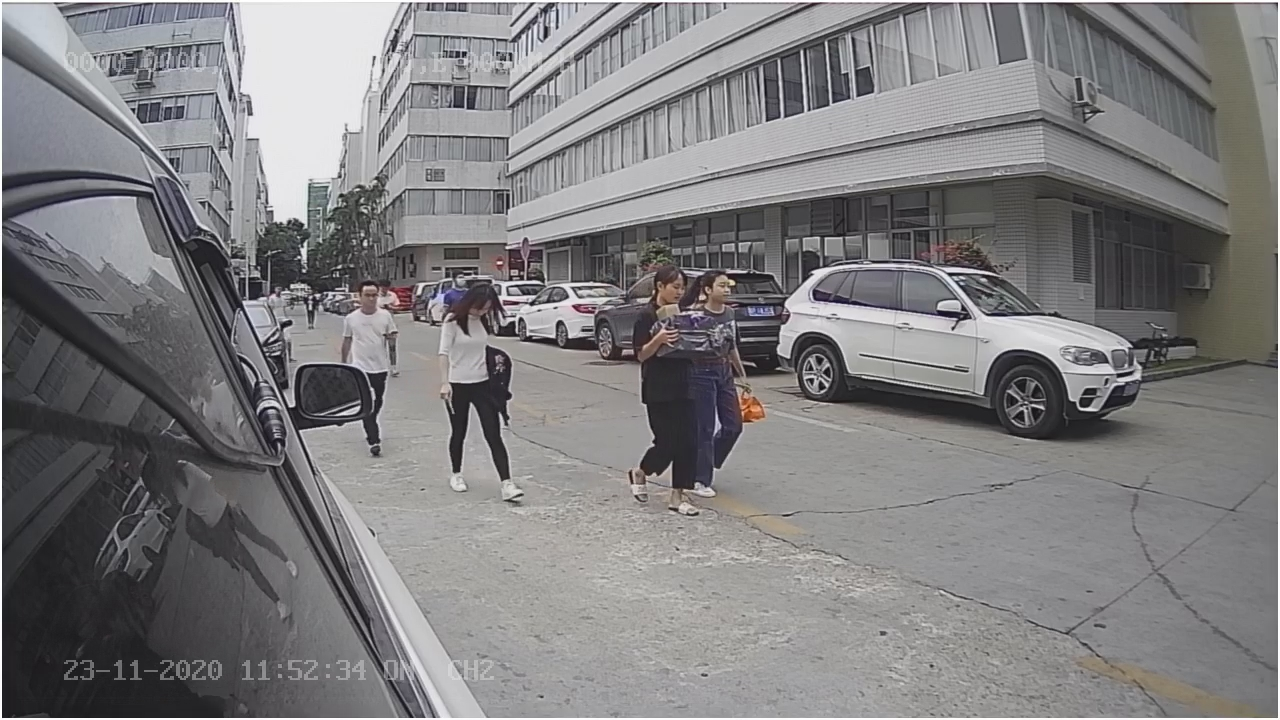person: (438, 277, 519, 499)
